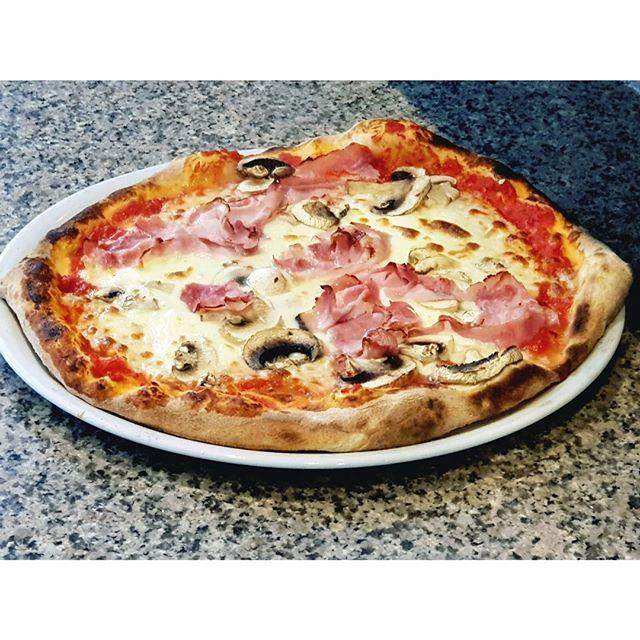champignon: (339, 165, 439, 220), (242, 329, 324, 367), (334, 353, 417, 390), (433, 353, 520, 382), (172, 338, 221, 382), (238, 156, 300, 182)
